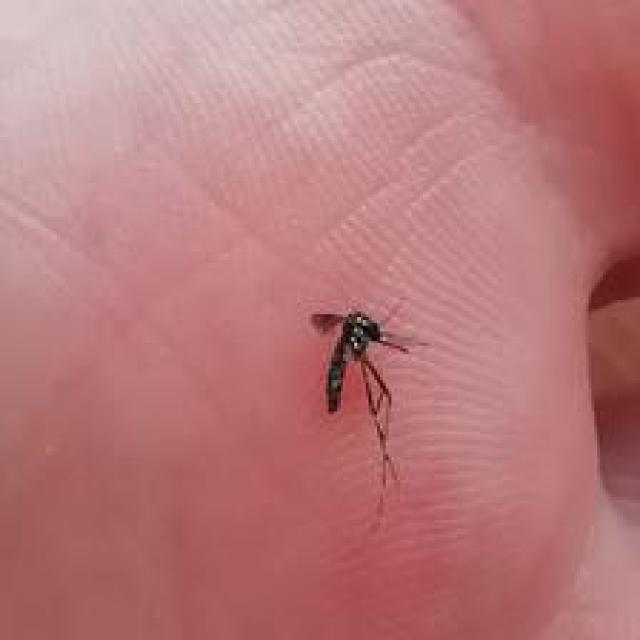Aedes albopictus: (308, 299, 428, 487)
